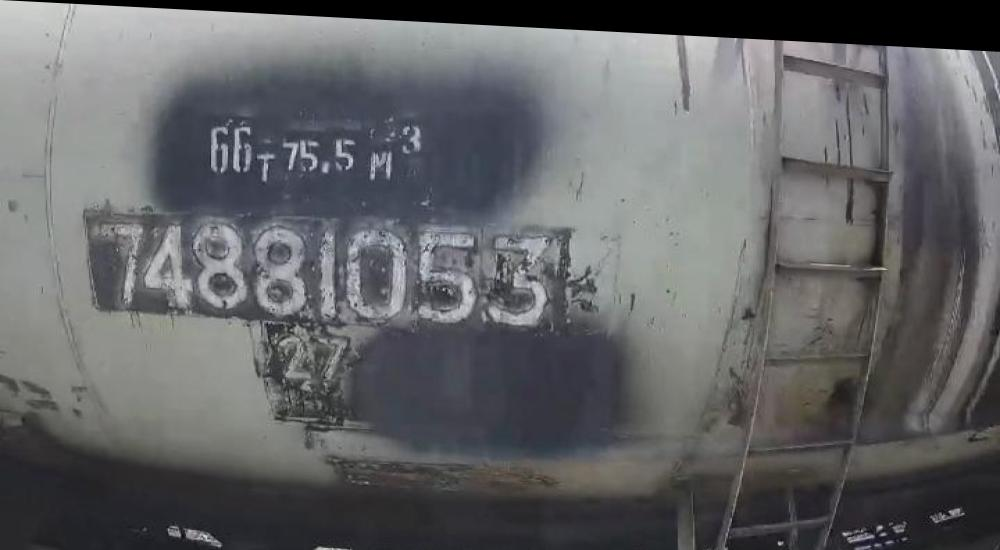Wagon-number: (83, 205, 560, 330)
